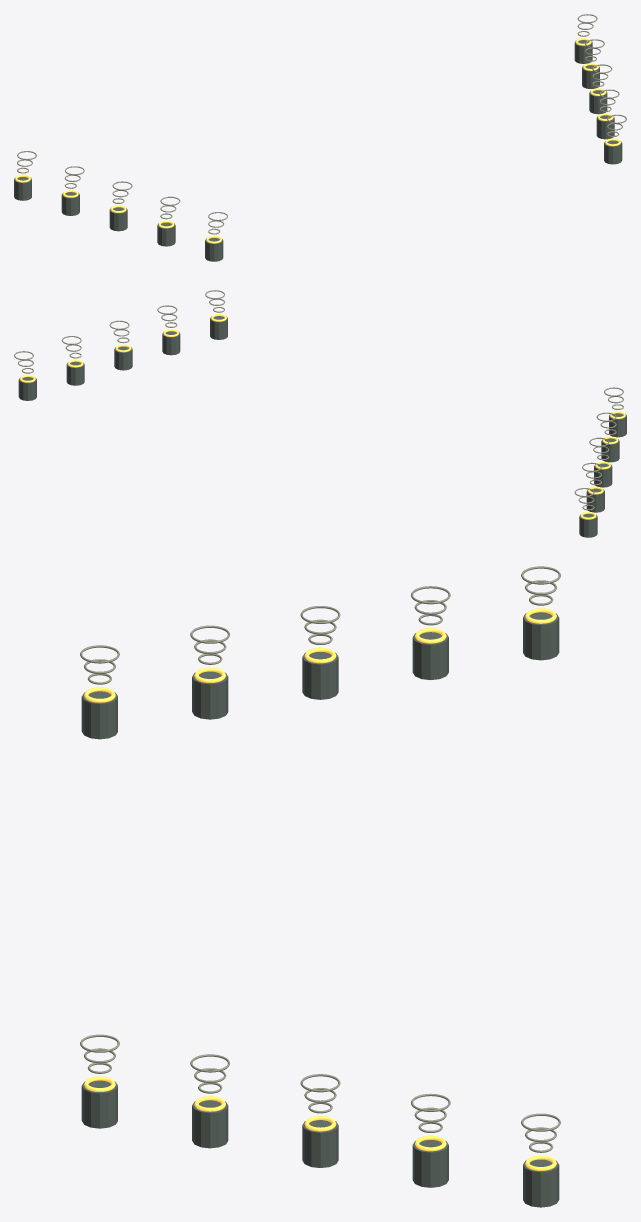
Rendered from brass_foundry_infinite.glb.
3 views of the same model, one above another, from view 1: azimuth 30°, elevation 25°; view 2: azimuth 150°, elevation 25°; view 3: azimuth 270°, elevation 25° (orthographic). The views are drawn at different scales.
Parts seen in each view (by area): view 1: Props, MovingFloat, Energy; view 2: Props, MovingFloat, Energy; view 3: Props, MovingFloat, Energy.
Boxes of the visible parts, x1,y1,x2,y2 form: Props: (14,40,622,261); MovingFloat: (17,14,626,234); Energy: (15,38,620,243); Props: (18,316,626,537); MovingFloat: (14,290,623,510); Energy: (20,314,625,519); Props: (81,612,559,1207); MovingFloat: (80,566,560,1152); Energy: (84,608,556,1170).
Size of the model in its own units: 20.69 by 1.4 by 7.42.
